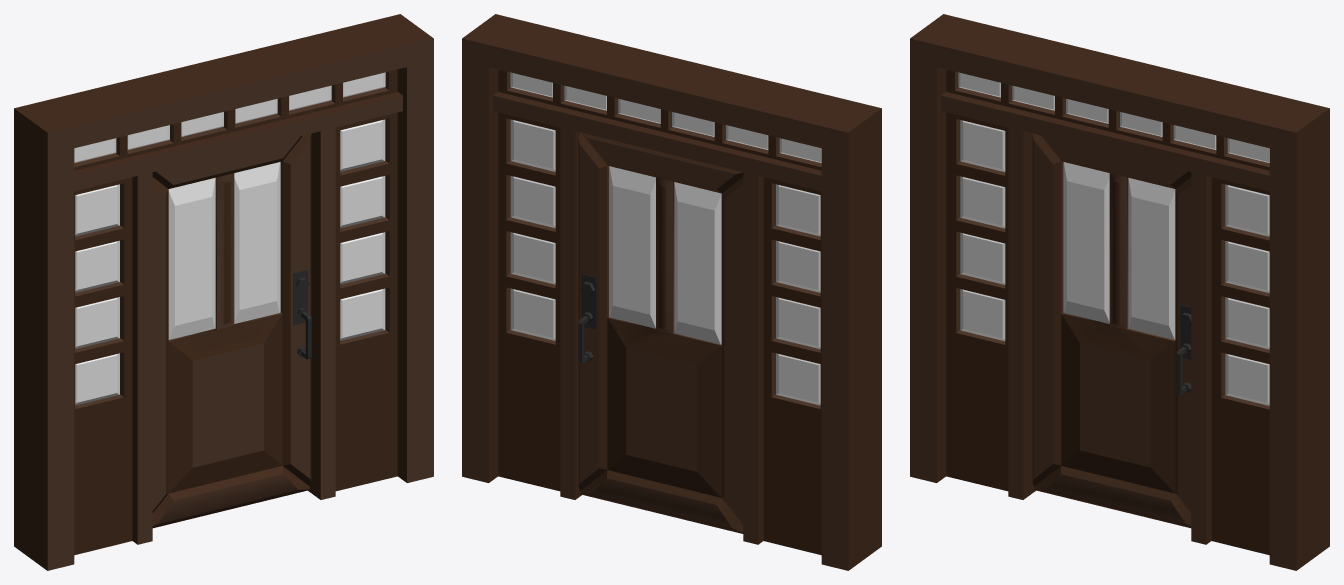
Rendered from aa3f4416-dc0c-4fb1-9b0e-bcb8956ddf35.glb.
3 renders of one model, left to right at view 1: azimuth 30°, elevation 25°; view 2: azimuth 150°, elevation 25°; view 3: azimuth 330°, elevation 25°, orthographic.
Visible parts, largest first — view 1: Door_frame, Door2, Glass, Glass2, Glass16; view 2: Door_frame, Door2, Glass, Glass2, Glass16; view 3: Door_frame, Door2, Glass, Glass16, Glass2.
Boxes of the visible parts, left/top/right/bottom form: Door_frame: left=14, top=14, right=433, bottom=570; Door2: left=152, top=133, right=311, bottom=528; Glass: left=74, top=72, right=385, bottom=405; Glass2: left=168, top=177, right=215, bottom=339; Glass16: left=234, top=162, right=280, bottom=323; Door_frame: left=462, top=14, right=881, bottom=570; Door2: left=578, top=132, right=743, bottom=533; Glass: left=510, top=72, right=821, bottom=405; Glass2: left=674, top=182, right=721, bottom=344; Glass16: left=609, top=166, right=655, bottom=328; Door_frame: left=910, top=14, right=1329, bottom=570; Door2: left=1032, top=133, right=1191, bottom=528; Glass: left=958, top=72, right=1269, bottom=405; Glass16: left=1128, top=177, right=1175, bottom=339; Glass2: left=1063, top=162, right=1109, bottom=323.
Bounding box in the file's own units: 359 × 389 × 58.66.
1 material, 1 textured.
